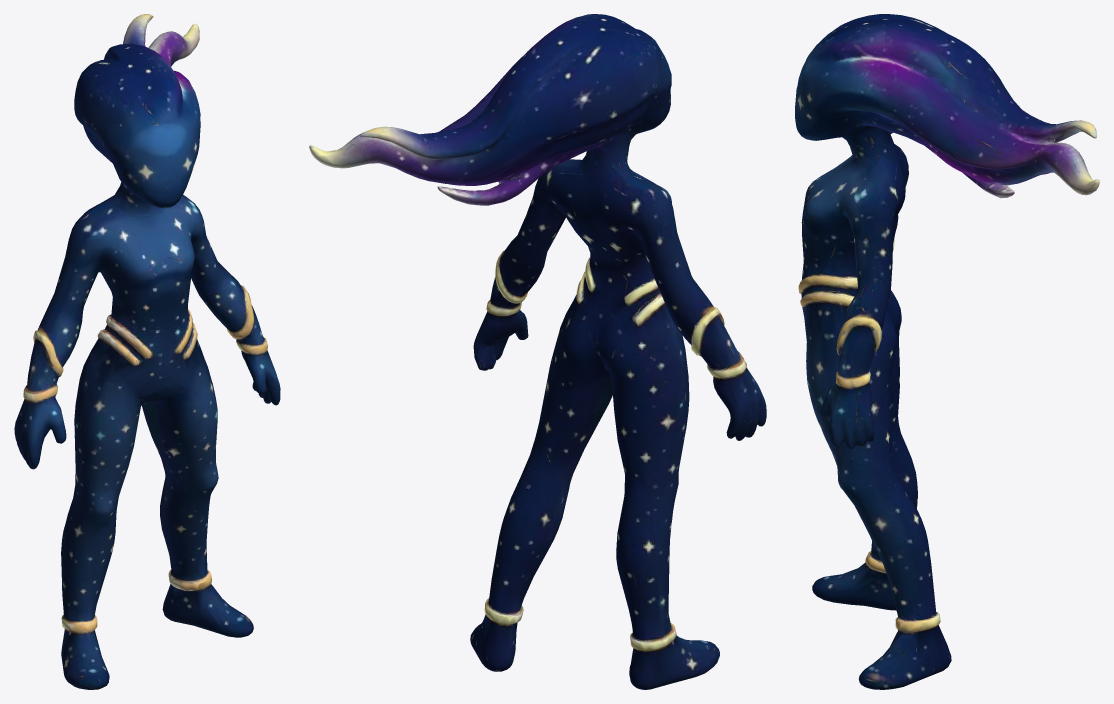
File: nhyx.glb
3 views of the same model, side by side, from view 1: azimuth 30°, elevation 25°; view 2: azimuth 150°, elevation 25°; view 3: azimuth 270°, elevation 25° (orthographic). The views are drawn at different scales.
Parts seen in each view (by area): view 1: Mesh_0; view 2: Mesh_0; view 3: Mesh_0.
Part boxes in pixels (<box>): Mesh_0: <box>14,14,280,689</box>; Mesh_0: <box>309,14,766,689</box>; Mesh_0: <box>795,14,1099,689</box>.
Size of the model in its own units: 0.9888 by 1.9 by 0.8487.
1 material, 1 textured.
